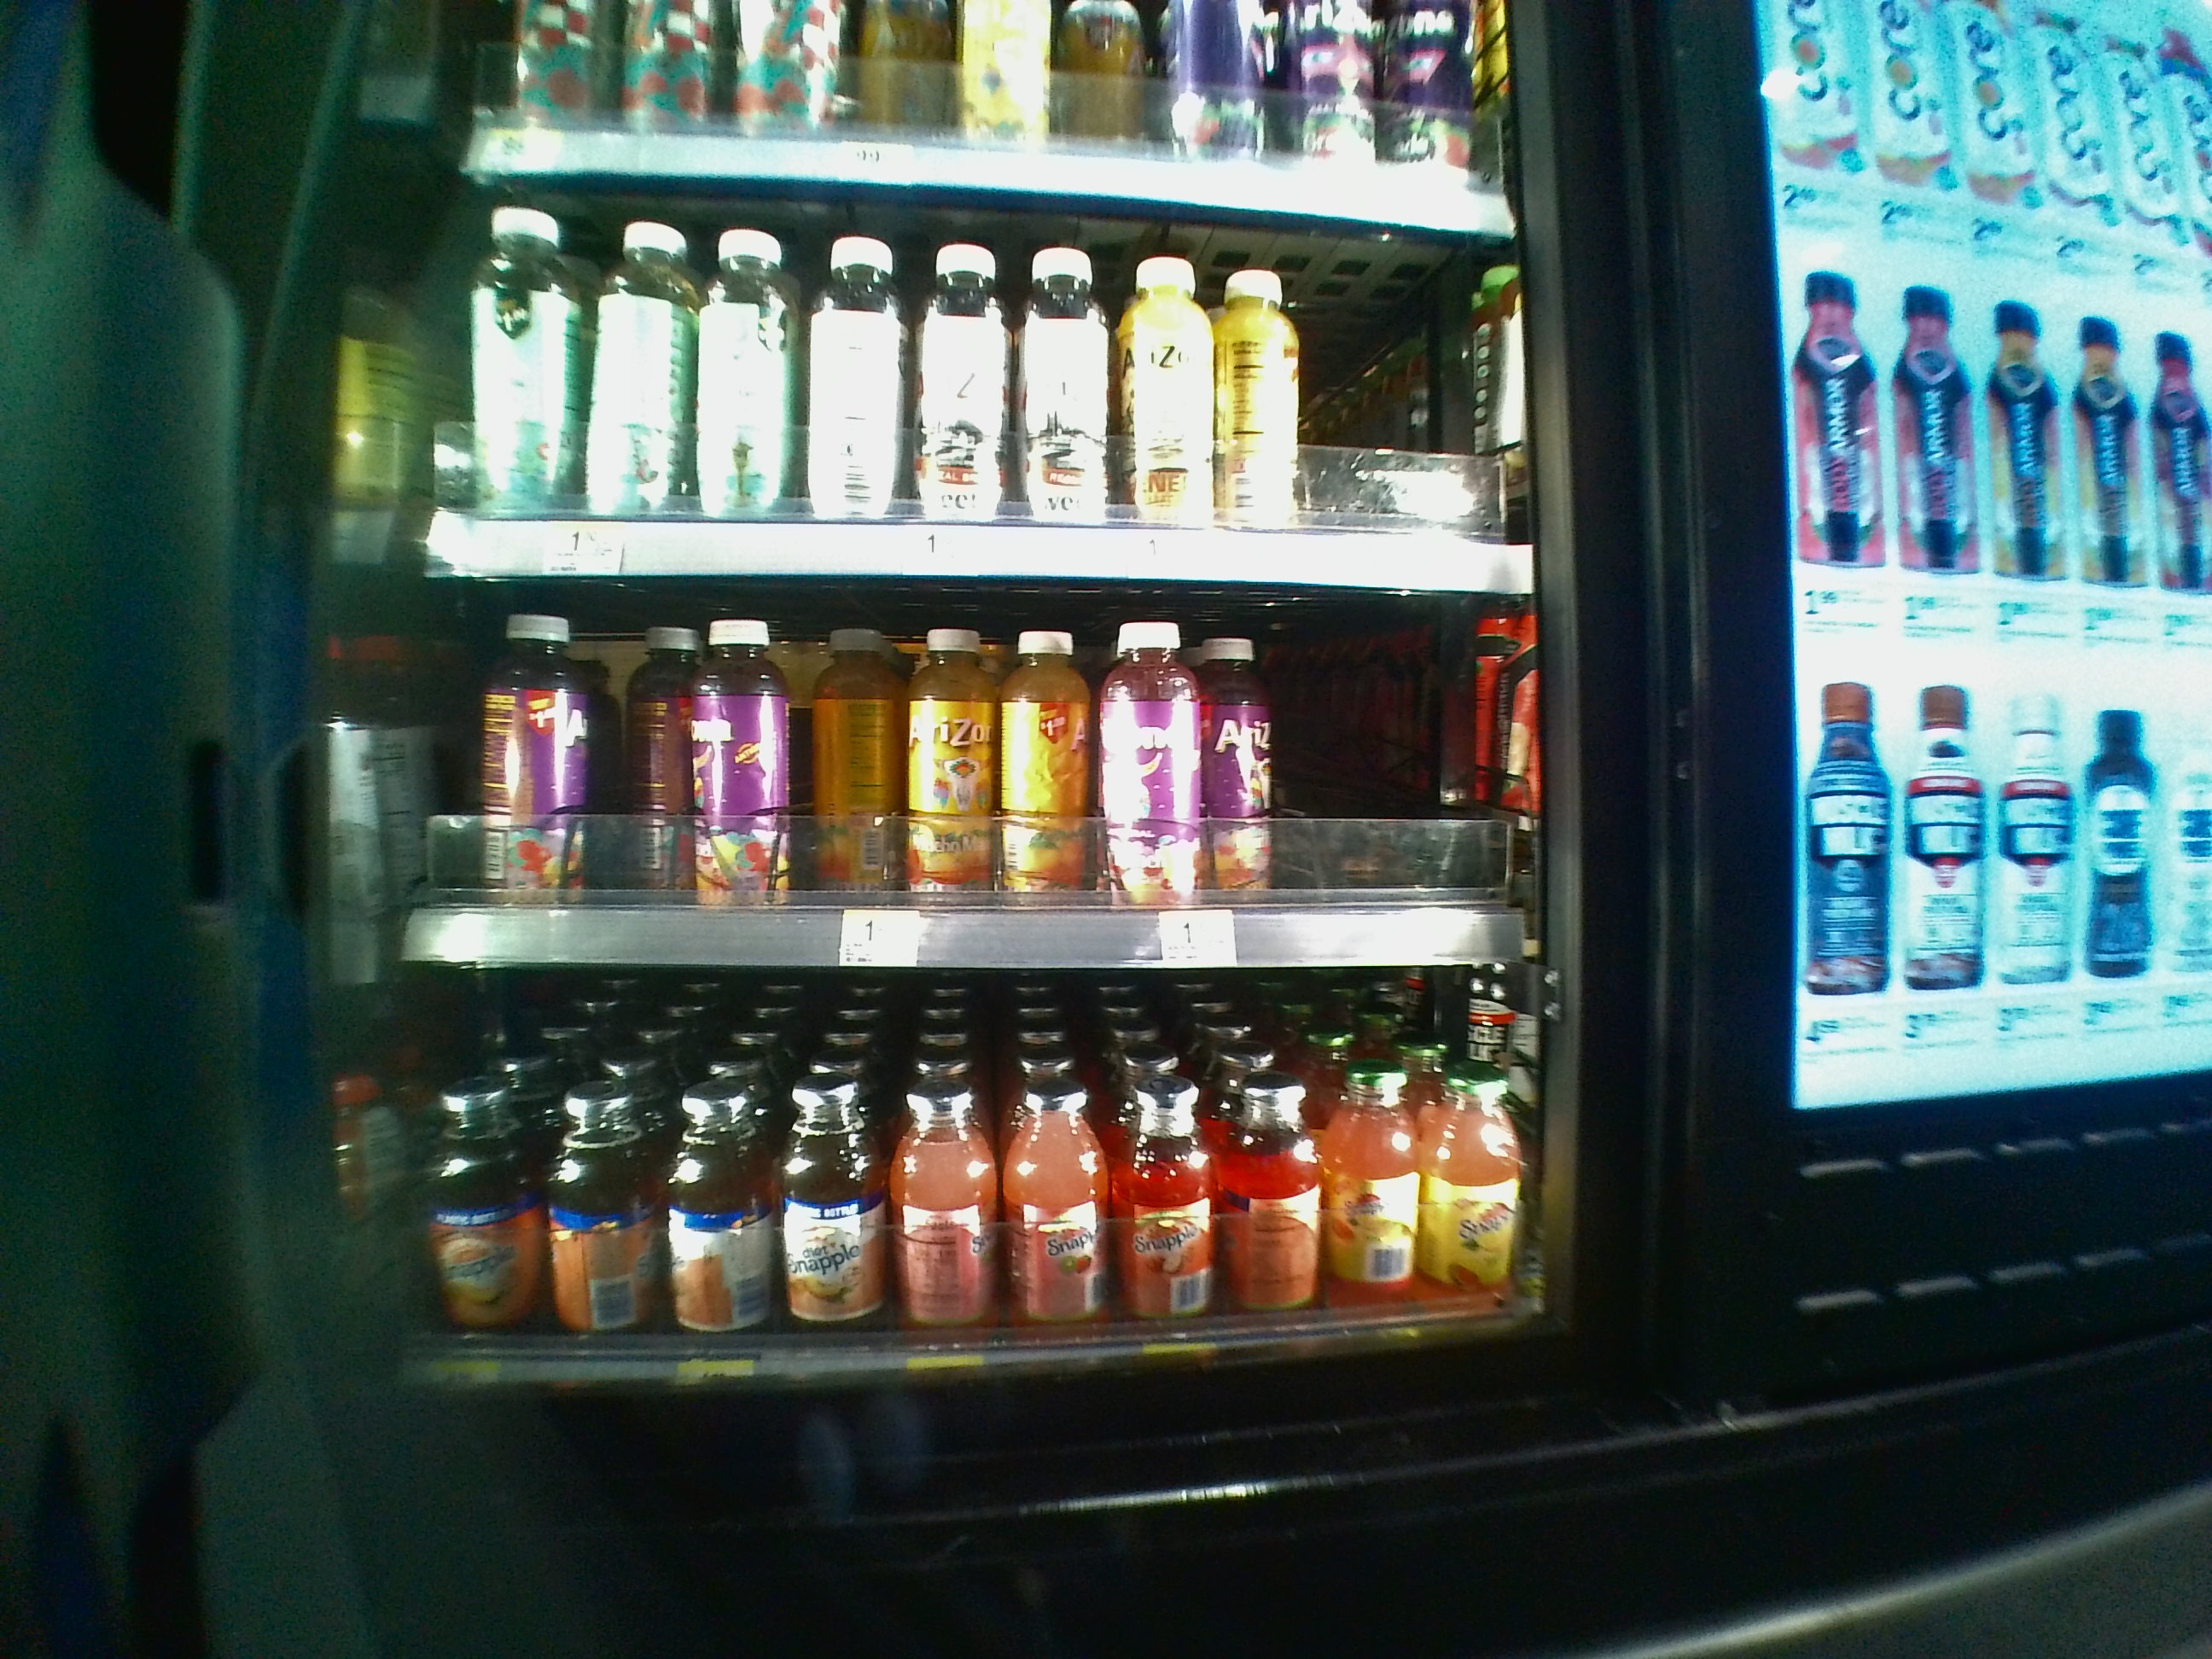shelf: (404, 969, 1561, 1378), (432, 174, 1526, 582), (404, 596, 1538, 957)
